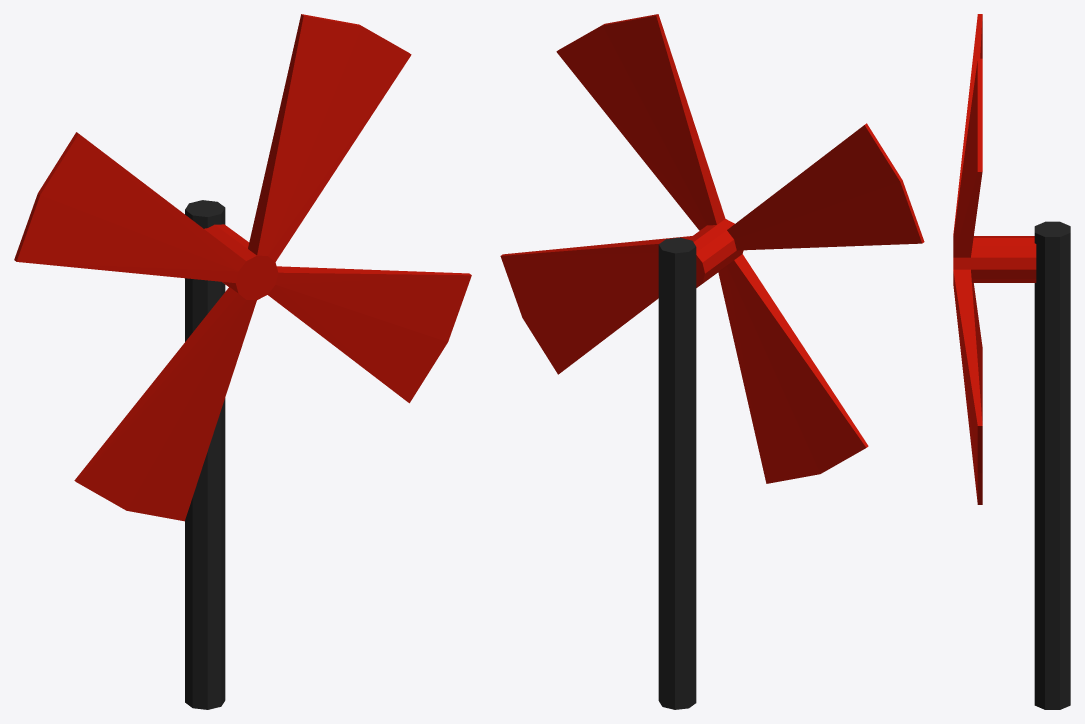
Rendered from Windmill.obj.
3 views of the same model, side by side, from view 1: azimuth 30°, elevation 25°; view 2: azimuth 150°, elevation 25°; view 3: azimuth 270°, elevation 25° (orthographic). The views are drawn at different scales.
Parts seen in each view (by area): view 1: Cylinder.010, Cylinder.009; view 2: Cylinder.010, Cylinder.009; view 3: Cylinder.009, Cylinder.010.
Part boxes in pixels (x1,y1,x2,y2): Cylinder.010: (14, 14, 471, 521); Cylinder.009: (185, 200, 225, 709); Cylinder.010: (500, 14, 924, 483); Cylinder.009: (658, 237, 696, 709); Cylinder.009: (1034, 221, 1070, 709); Cylinder.010: (953, 14, 1036, 504).
Size of the model in its own units: 7.74 by 11.36 by 1.8.
